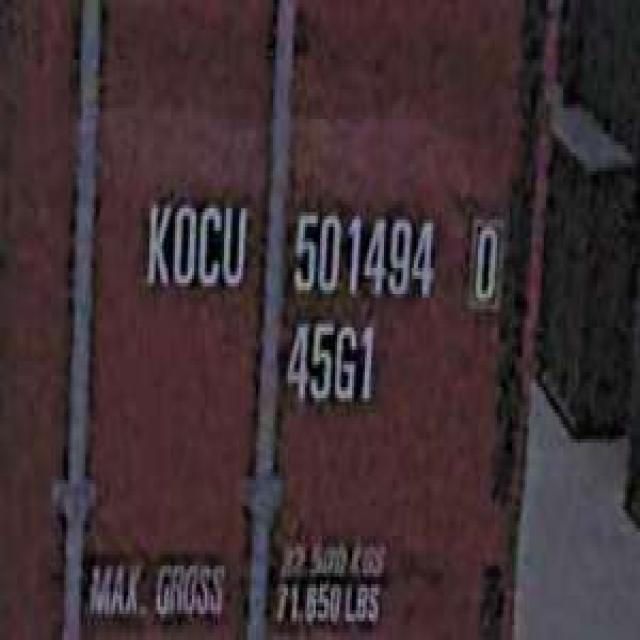dv: (463, 212, 506, 313)
owner: (138, 190, 250, 301)
serial: (286, 201, 439, 309)
size: (282, 313, 378, 413)
